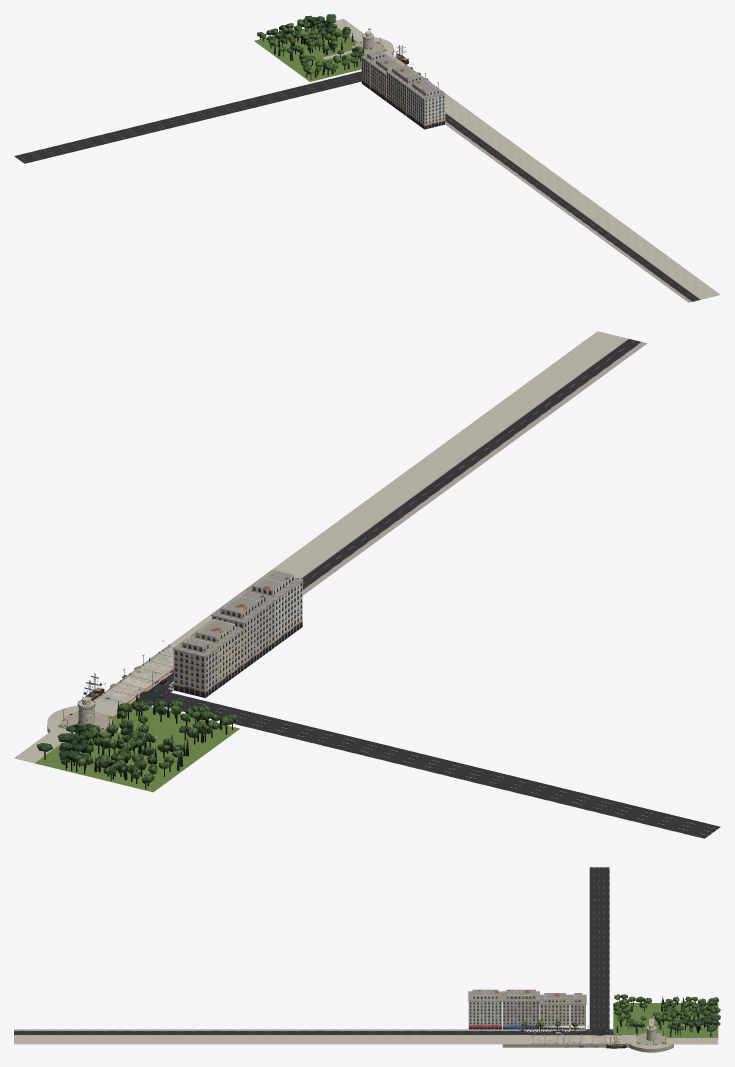
File: lugar-salonica.glb
3 renders of one model, top to bottom at view 1: azimuth 30°, elevation 25°; view 2: azimuth 150°, elevation 25°; view 3: azimuth 270°, elevation 25°, orthographic. The views are drawn at different scales.
Visible parts, largest first — view 1: luzG-cerca, luzE, vert-cerca; view 2: luzG-cerca, luzE, vert-cerca, luzS-pista; view 3: luzG-cerca, luzE, vert-cerca, luzS-pista.
Part boxes in pixels (x1,y1,x2,y2): luzG-cerca: (14, 19, 720, 302); luzE: (361, 49, 446, 129); vert-cerca: (257, 14, 446, 120); luzG-cerca: (14, 331, 720, 838); luzE: (47, 570, 303, 732); vert-cerca: (36, 640, 237, 789); luzS-pista: (77, 644, 176, 725); luzG-cerca: (14, 867, 718, 1048); luzE: (468, 989, 673, 1052); vert-cerca: (469, 994, 720, 1048); luzS-pista: (530, 1024, 657, 1044).
Size of what is drawn, in the model's own units: 348 by 31.7 by 572.
Materials: 22 (19 with a texture image).
